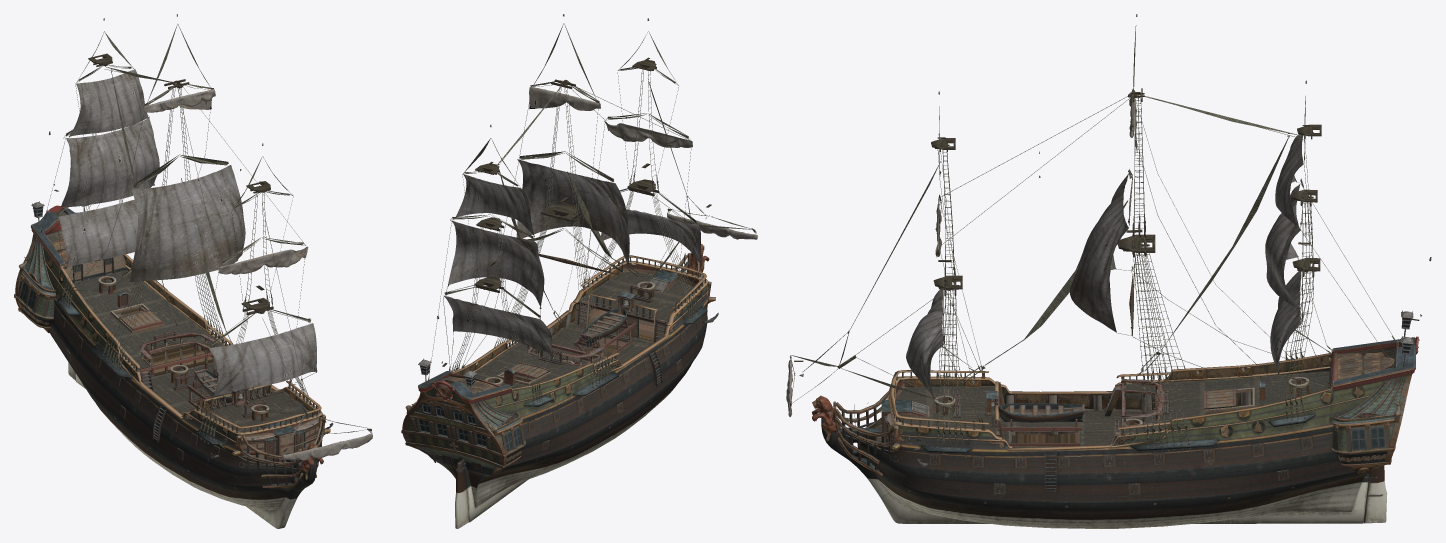
The model's file is pinnace.glb.
The picture shows the model from 3 angles, left to right: view 1: azimuth 30°, elevation 25°; view 2: azimuth 150°, elevation 25°; view 3: azimuth 270°, elevation 25°; orthographic projection. The views are drawn at different scales.
Visible parts, largest first — view 1: Object_17, Object_11, Object_13, Object_6, Object_9, Object_4, Object_15; view 2: Object_11, Object_17, Object_6, Object_13, Object_4, Object_9, Object_15; view 3: Object_11, Object_6, Object_13, Object_17, Object_4, Object_9, Object_15.
Part boxes in pixels (x1,y1,x2,y2): Object_17: (58,69,372,460); Object_11: (43,247,330,528); Object_13: (46,211,320,465); Object_6: (40,14,372,458); Object_9: (31,201,323,480); Object_4: (14,205,78,332); Object_15: (52,234,320,442); Object_11: (416,253,715,528); Object_17: (443,86,757,354); Object_6: (428,14,756,409); Object_13: (444,257,706,404); Object_4: (401,371,525,476); Object_9: (418,244,709,395); Object_15: (446,265,701,421); Object_11: (821,349,1387,528); Object_6: (790,14,1431,466); Object_13: (874,342,1415,450); Object_17: (786,90,1303,416); Object_4: (1331,336,1419,475); Object_9: (812,310,1413,493); Object_15: (868,352,1394,461).
Bounding box in the file's own units: 7.18 × 24.54 × 28.23.
7 materials, 7 textured.
